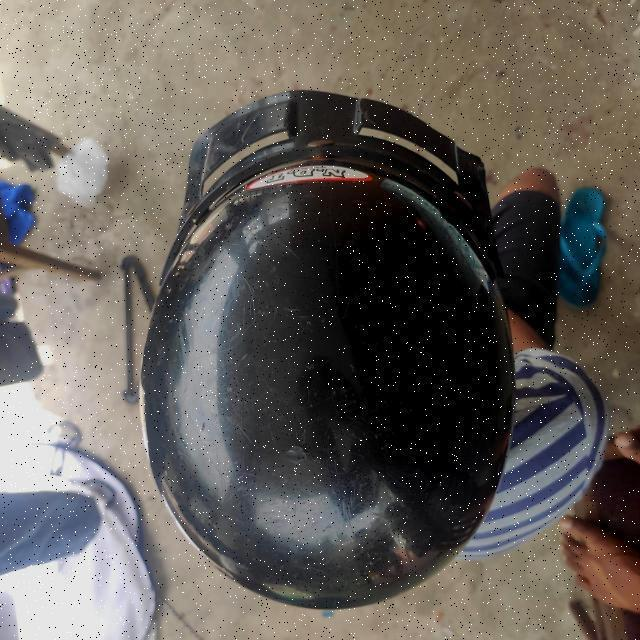helmet: (142, 88, 516, 612)
